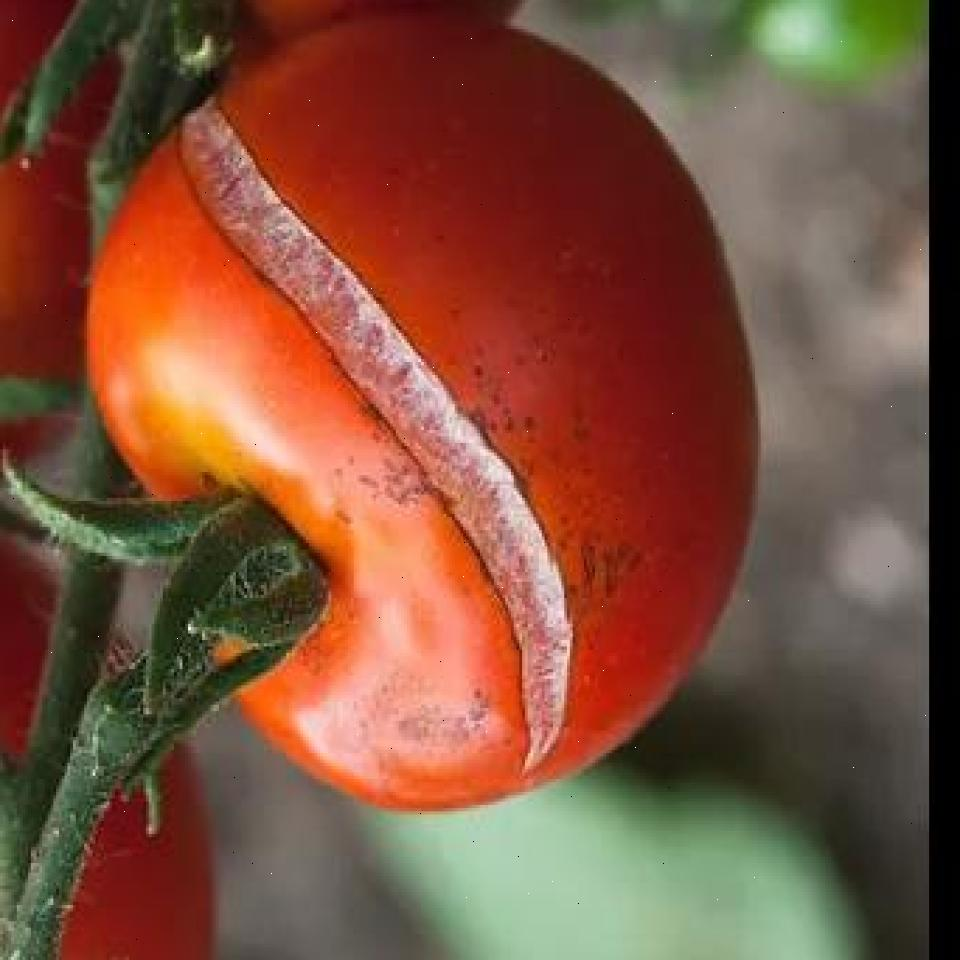Cracking: (159, 100, 595, 791)
